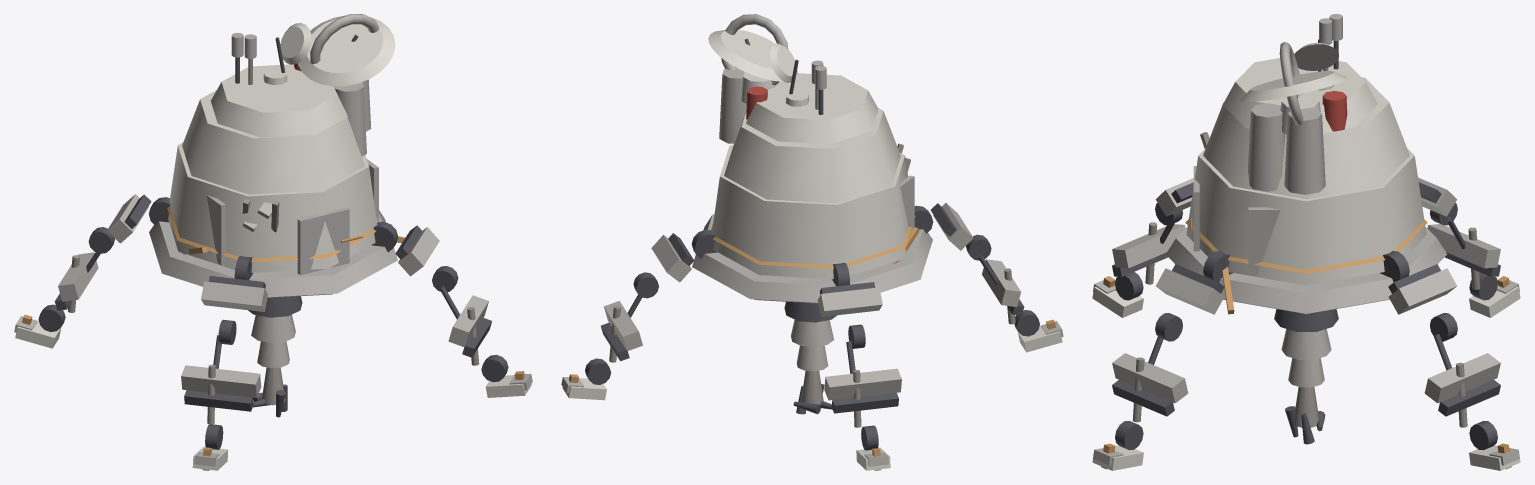
The model's file is reverse-report-walker.gltf.
3 renders of one model, left to right at view 1: azimuth 30°, elevation 25°; view 2: azimuth 150°, elevation 25°; view 3: azimuth 270°, elevation 25°, orthographic. The views are drawn at different scales.
Visible parts, largest first — view 1: MainBody, Roof, TopCap, Platform, LargeDishPanel, FrontHatch, LowerLink_3, UpperLink_3, TopTankA, LowerLink_2, DrillStageA, SmallDish (+15 smaller); view 2: MainBody, Roof, TopCap, Platform, LargeDishPanel, LowerLink_2, TopTankB, UpperLink_2, LowerLink_3, DrillStageA, LowerLink_1, LowerBrace_2 (+15 smaller); view 3: MainBody, Roof, Platform, TopCap, TopTankB, TopTankA, LowerLink_1, LowerLink_4, LargeDishPanel, UpperLink_1, UpperLink_4, LowerLink_3 (+30 smaller).
Part boxes in pixels (x1,y1,x2,y2): MainBody: (168,142,377,272); Roof: (182,90,364,194); TopCap: (211,64,347,137); Platform: (149,210,397,297); LargeDishPanel: (298,15,395,86); FrontHatch: (297,207,349,275); LowerLink_3: (181,365,261,397); UpperLink_3: (201,281,267,311); TopTankA: (334,82,366,156); LowerLink_2: (58,252,98,301); DrillStageA: (251,314,295,343); SmallDish: (280,22,311,64); MainBody: (712,144,908,279); Roof: (724,108,900,203); TopCap: (746,73,878,144); Platform: (692,214,932,302); LargeDishPanel: (708,29,797,81); LowerLink_2: (824,368,901,400); TopTankB: (719,67,746,143); UpperLink_2: (817,287,882,316); LowerLink_3: (982,259,1020,307); DrillStageA: (791,319,833,347); LowerLink_1: (604,301,642,351); LowerBrace_2: (831,392,898,413); MainBody: (1186,148,1426,285); Roof: (1203,77,1409,199); Platform: (1165,227,1447,313); TopCap: (1223,58,1377,135); TopTankB: (1284,108,1325,194); TopTankA: (1248,103,1285,191); LowerLink_1: (1424,353,1500,403); LowerLink_4: (1112,353,1188,403); LargeDishPanel: (1240,71,1347,102); UpperLink_1: (1388,268,1456,314); UpperLink_4: (1156,268,1224,314); LowerLink_3: (1112,224,1185,268).
Bounding box in the file's own units: 5.77 × 6.34 × 5.77.
